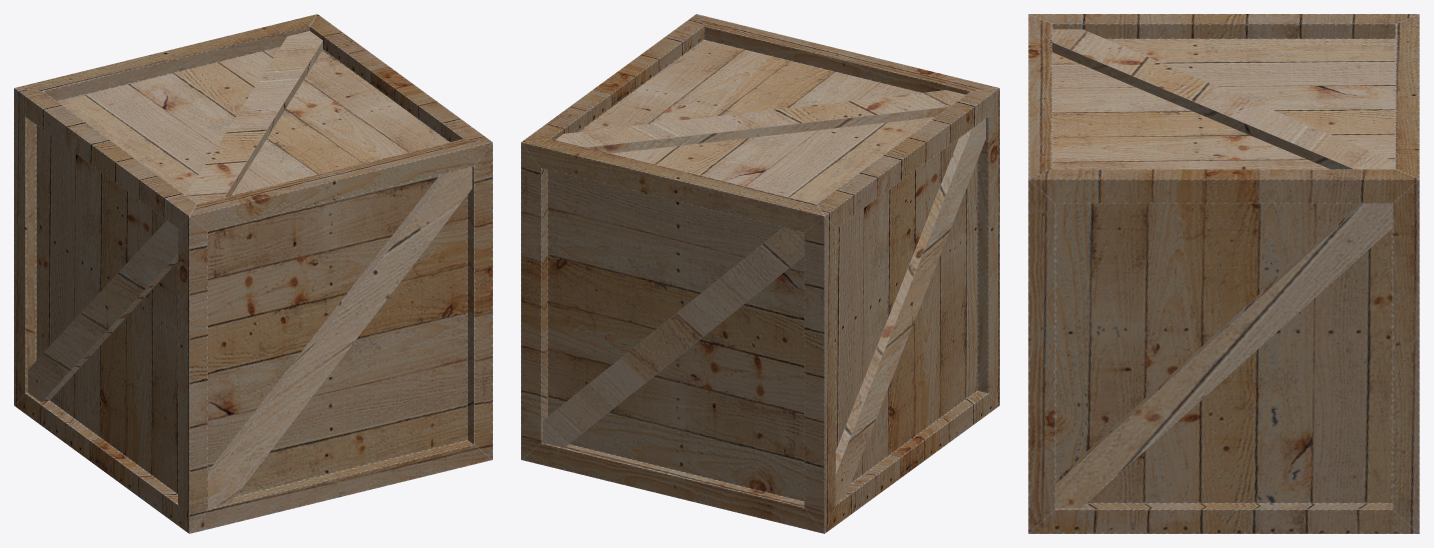
File: Crate.fbx
3 renders of one model, left to right at view 1: azimuth 30°, elevation 25°; view 2: azimuth 150°, elevation 25°; view 3: azimuth 270°, elevation 25°, orthographic. The views are drawn at different scales.
Parts seen in each view (by area): view 1: Main; view 2: Main; view 3: Main.
Boxes of the visible parts, left/top/right/bottom form: Main: left=14, top=14, right=492, bottom=533; Main: left=521, top=14, right=999, bottom=533; Main: left=1028, top=14, right=1419, bottom=533.
Size of the model in its own units: 2.84 by 2.84 by 2.84.
